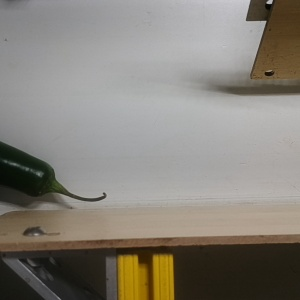Cut Point: (28, 163, 67, 202)
